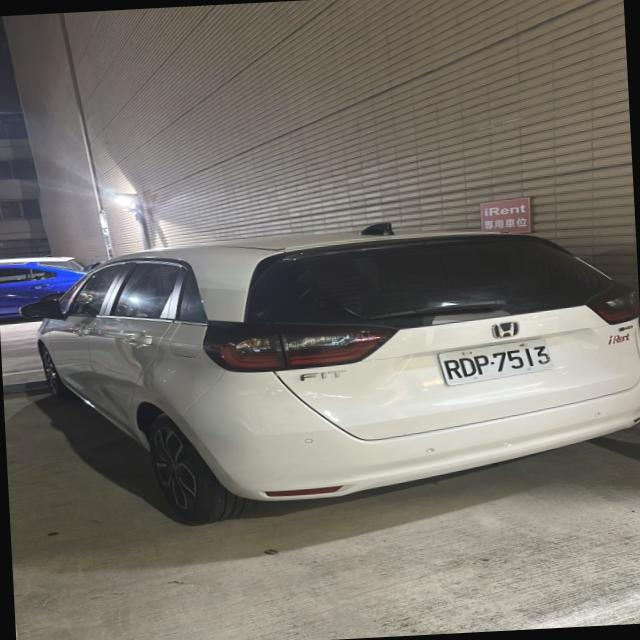license plate: (439, 339, 553, 386)
wheel: (150, 414, 248, 524)
